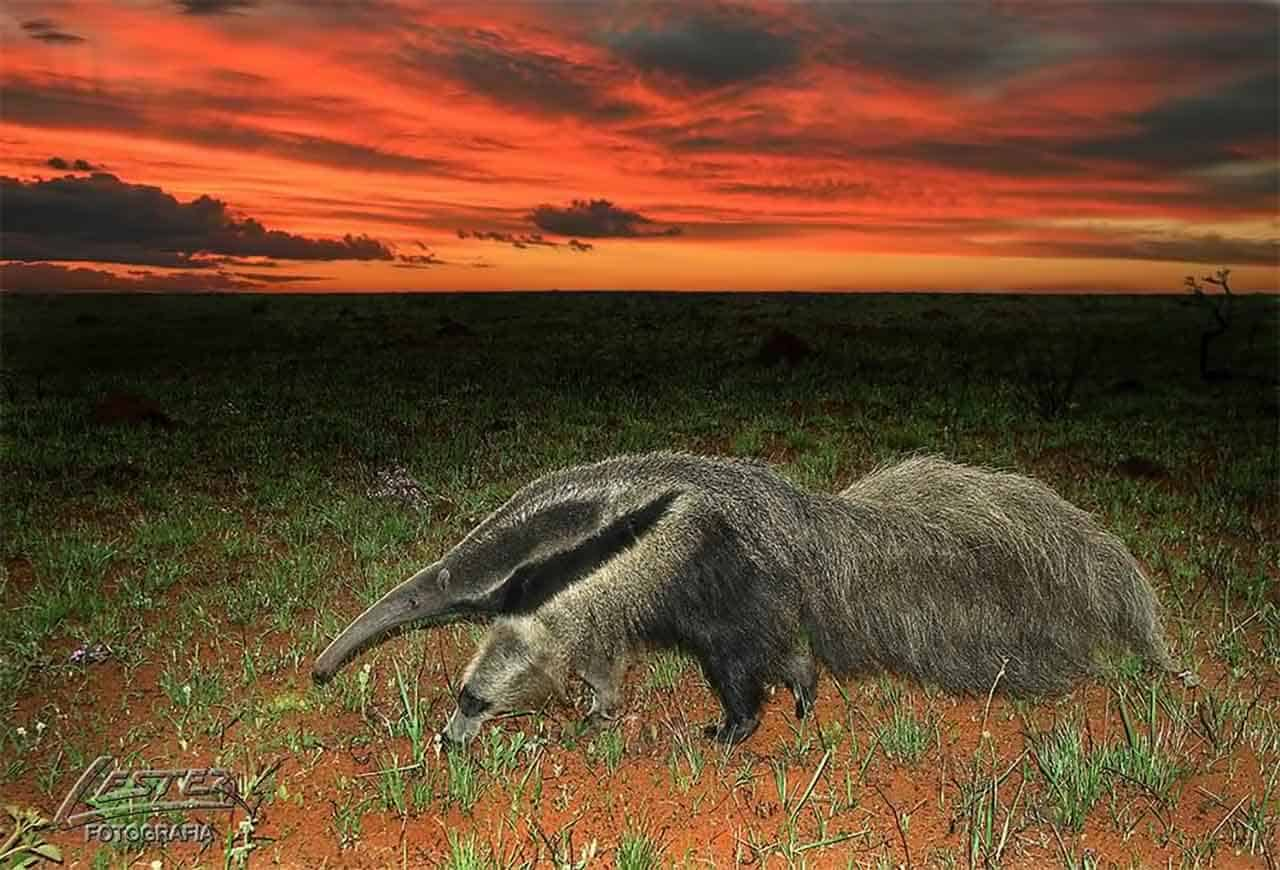TamanduaBandeira: (302, 446, 1167, 759)
